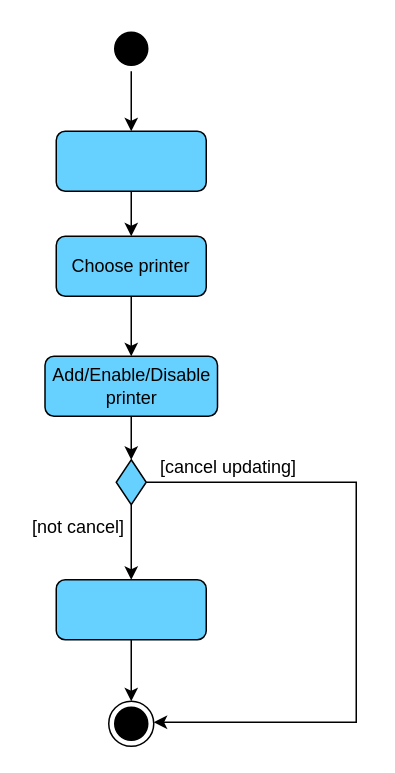
The diagram is 395 pixels wide and 773 high, and some of its shapes have lost their labels. The shapes that lost their labels are listed below. From the top down, each one's centre as x and y in pixels, then its label:
pixel 130 160: Click "Manage Printer" section
pixel 130 609: Save changes
